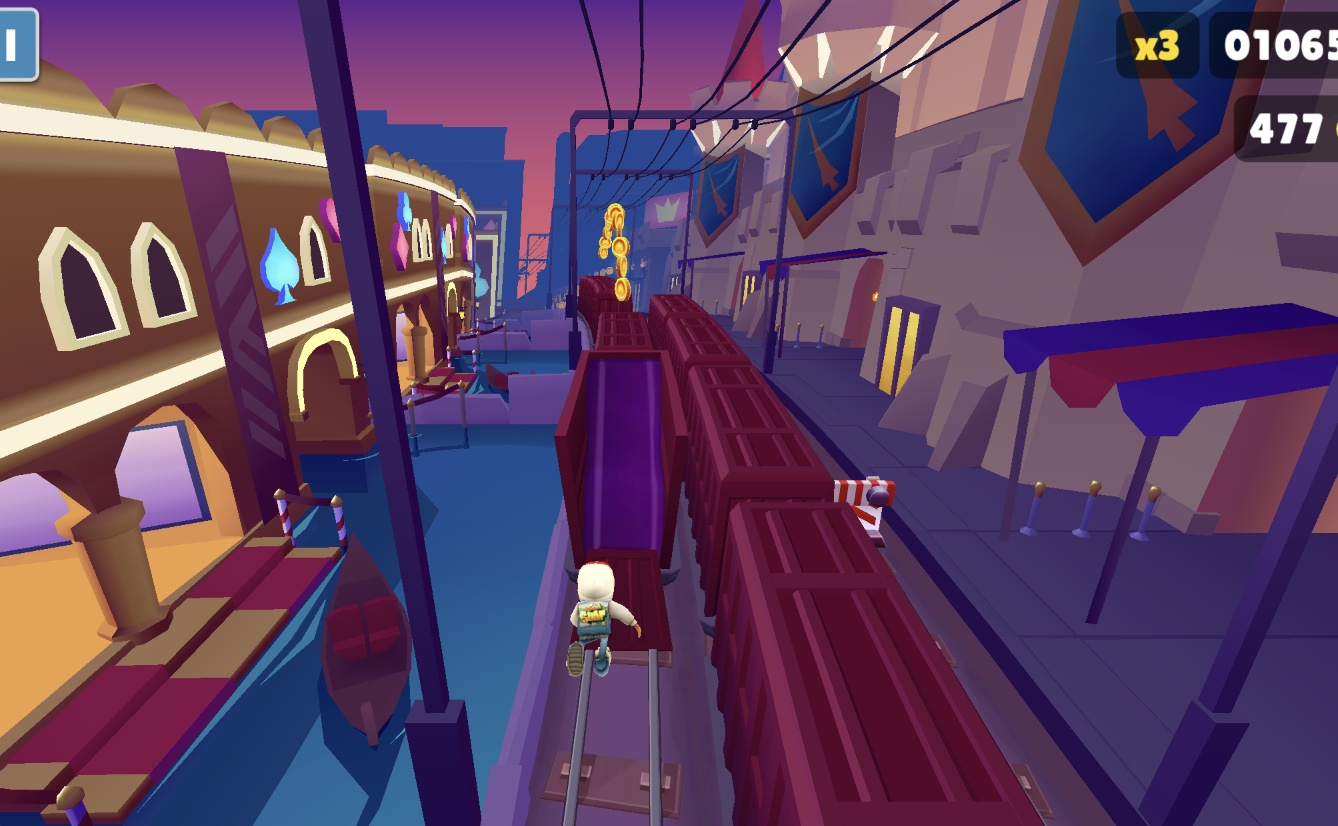ground_barrier: (831, 477, 891, 534)
train: (624, 294, 1004, 826), (519, 284, 686, 664)
